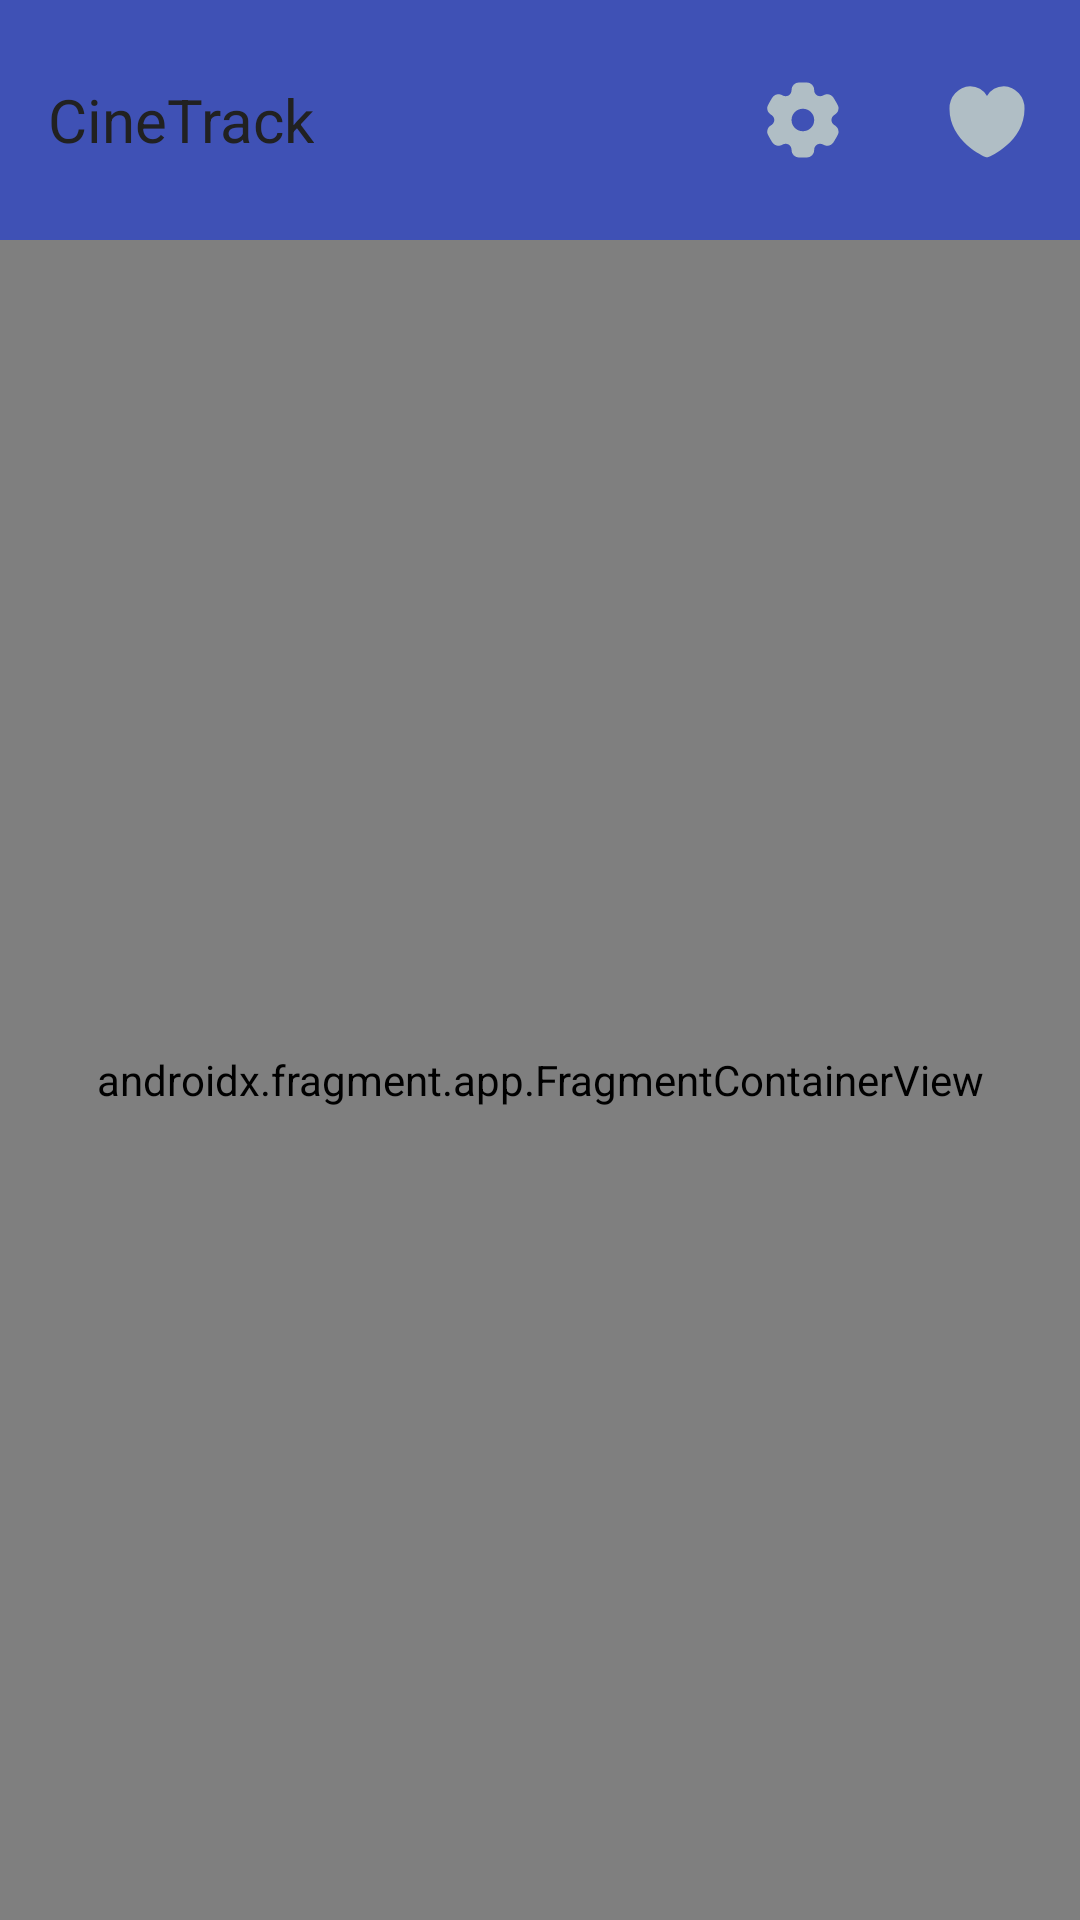

Icons on this 1080x1920 Android screen, each with the point to tap as [x,y]:
Ir a configuración: [803,120]
Mostrar favoritos: [987,122]
